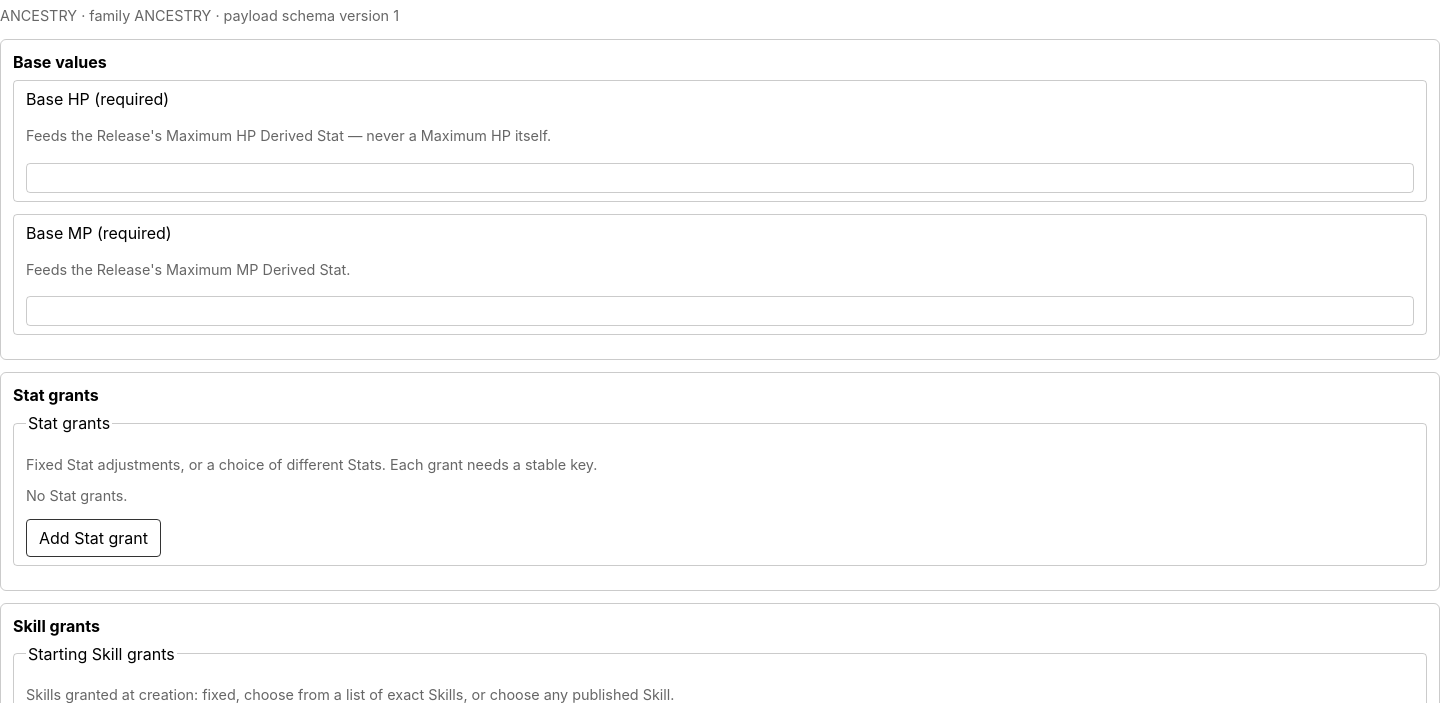
Test: M6-WO3 WO1 editors (§50) › authors Ancestry Stat grants (FIXED and CHOOSE_DISTINCT) and Skill grants through structured controls
Type "10" into the number field labelled "Base HP (required)". click: (720, 178)
box: [26,163,1414,193]
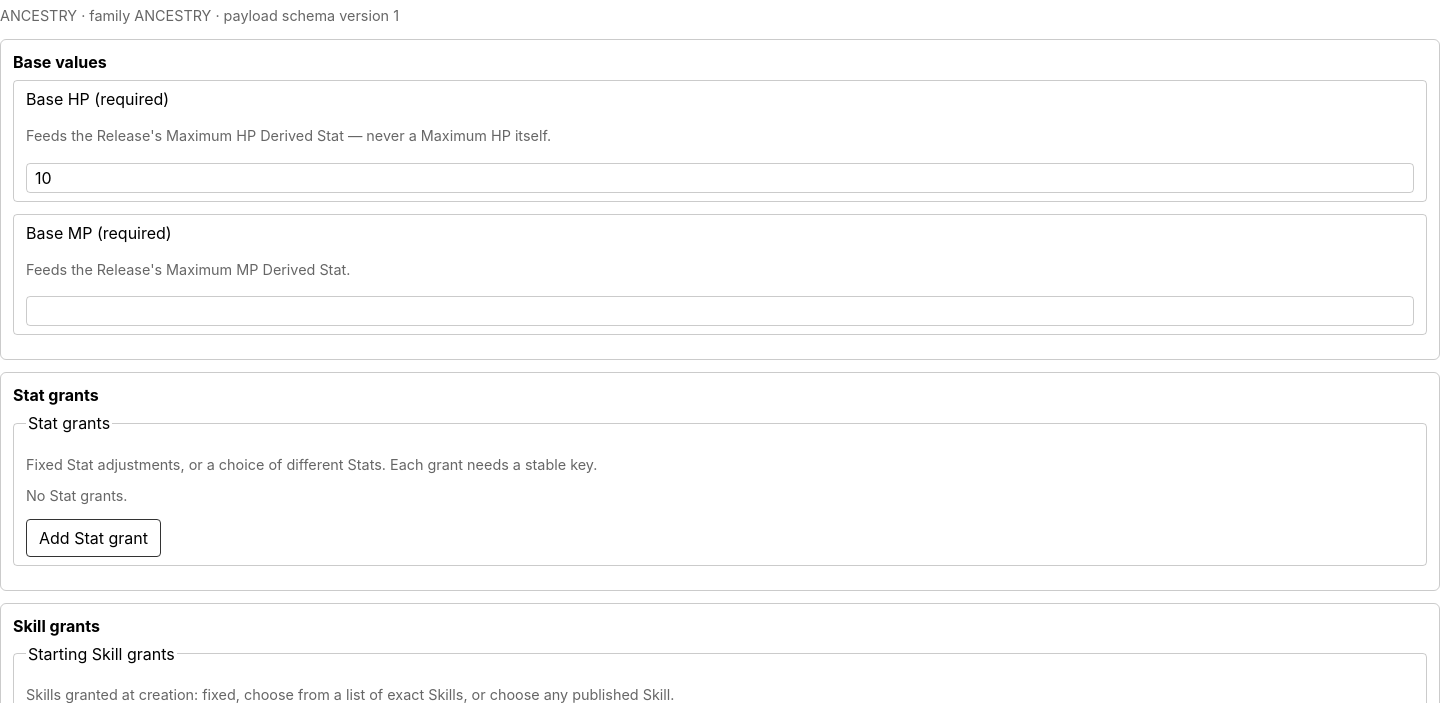
Click the button "Add Stat grant". click: (93, 538)
box: [26,518,161,556]
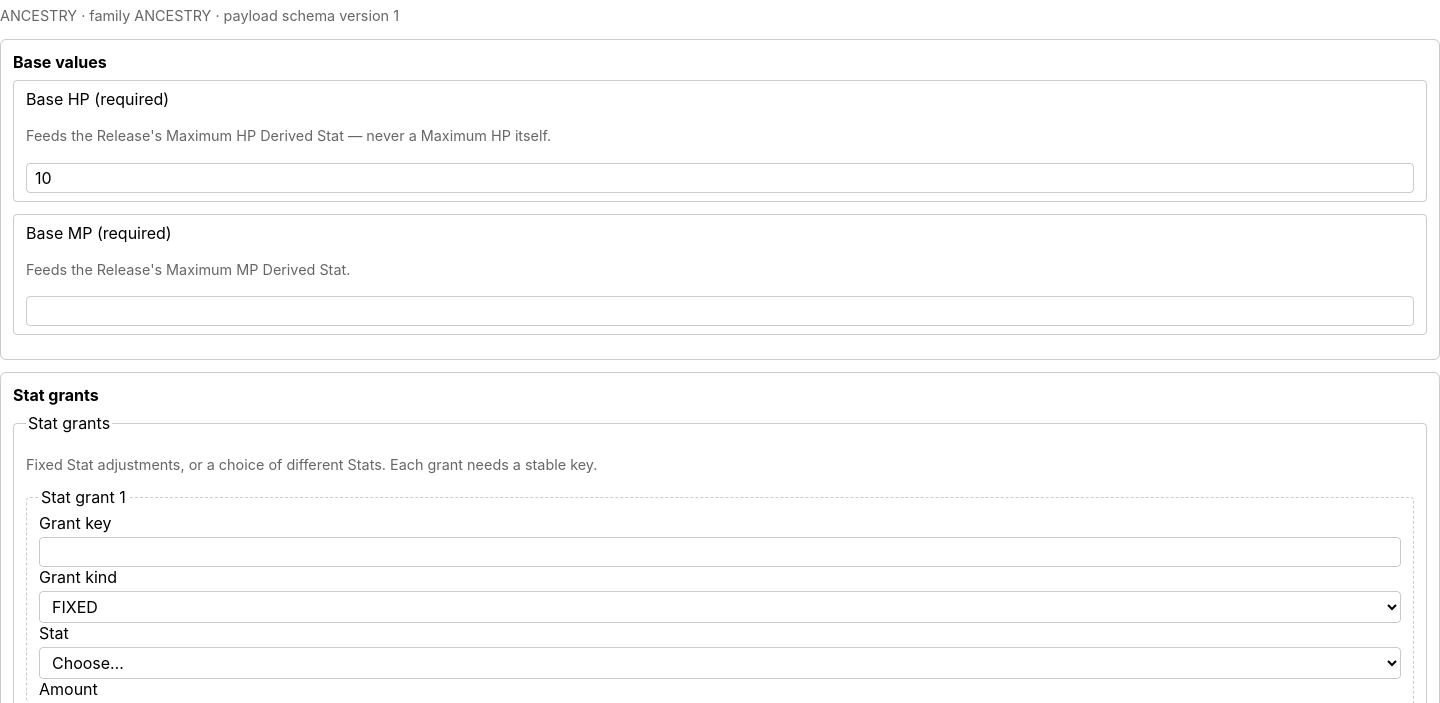
Type "orcani_might" into the field labelled "Grant key". click: (720, 552)
box: [39,537,1401,567]
(page scrolled)
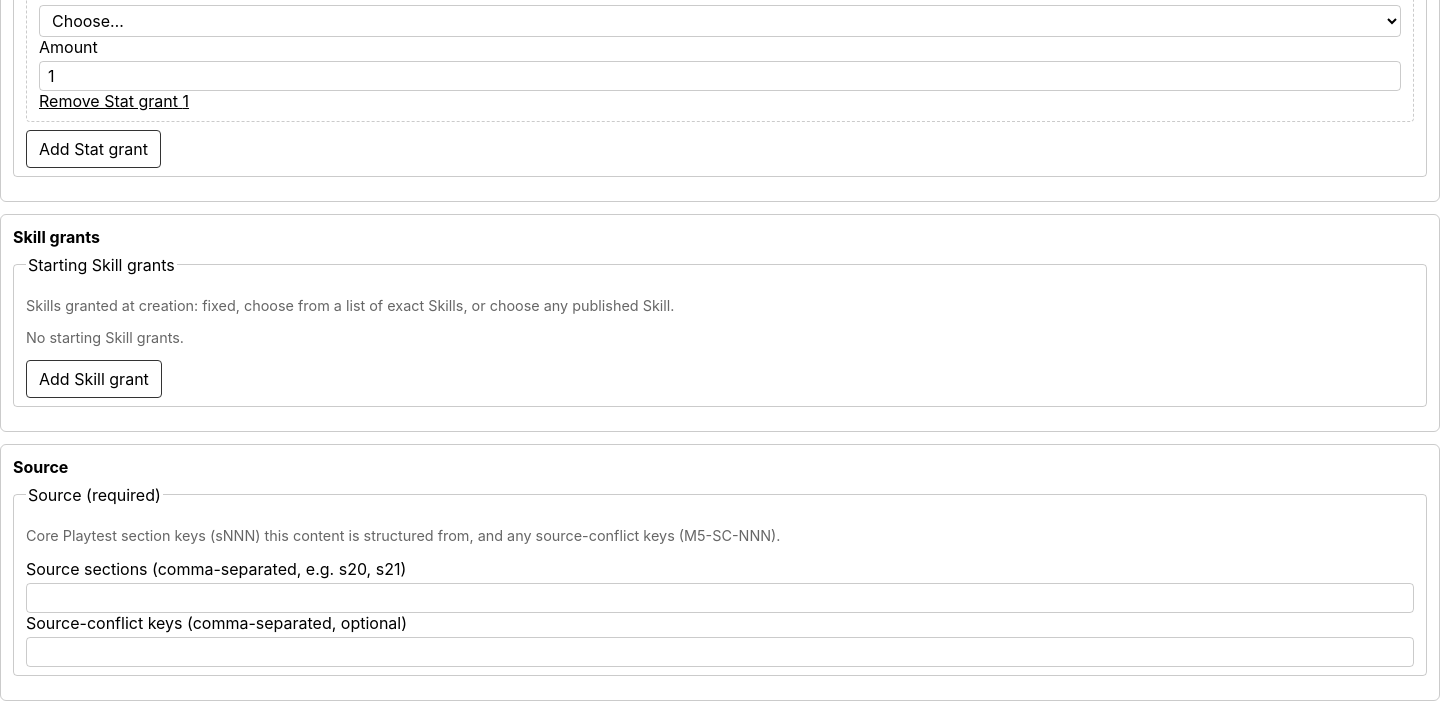
Click the button "Add Skill grant". click: (94, 379)
box: [26,360,162,398]
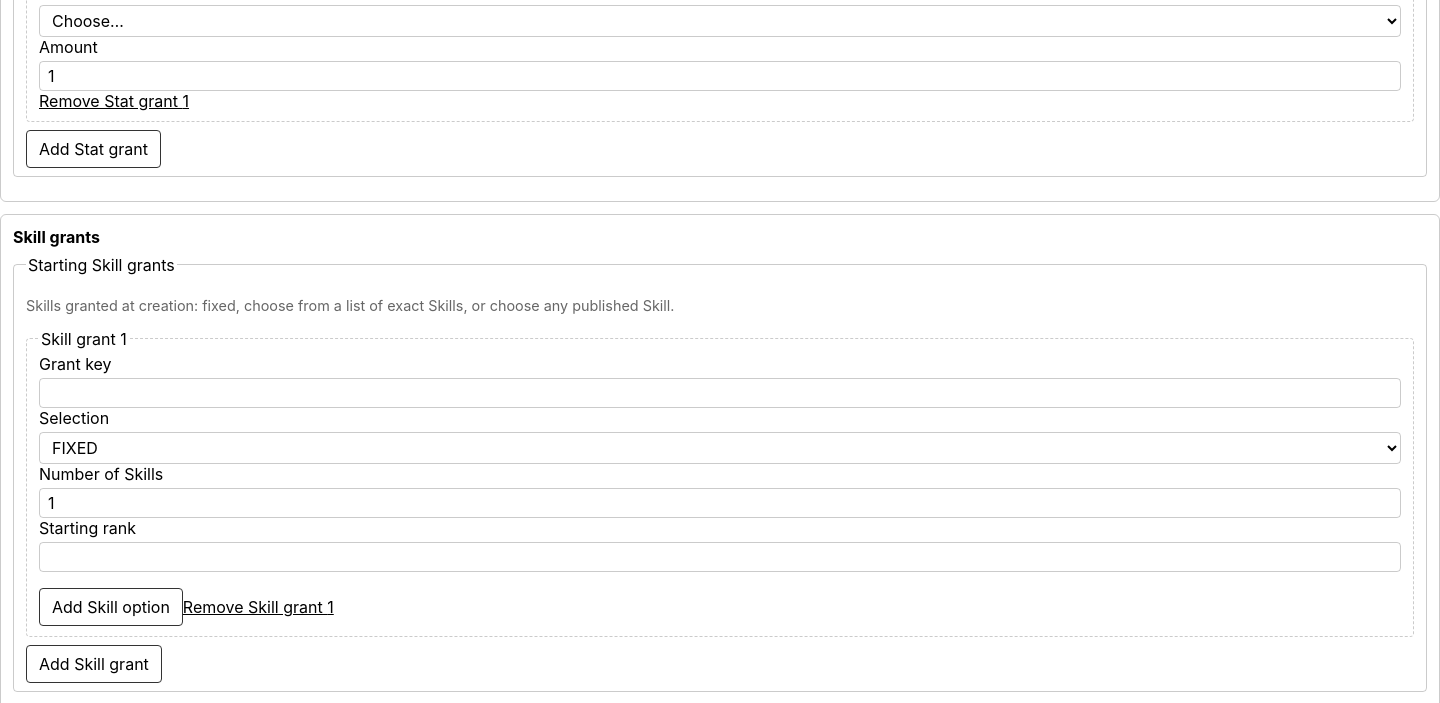
expect the dropdown labelled "Selection" is shown: met, box [39,432,1401,464]
expect the button "Add Skill option" is shown: met, box [39,588,183,626]
